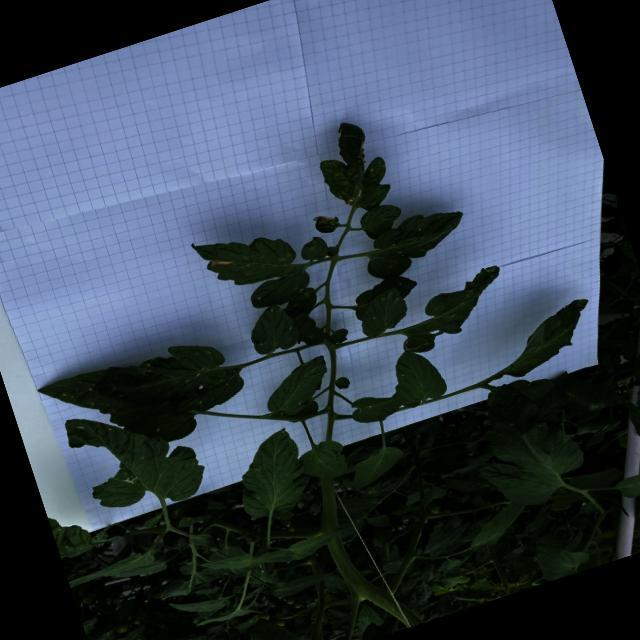Tomato healthy leaf: (455, 368, 595, 520), (490, 295, 606, 382), (223, 425, 316, 525), (258, 355, 338, 422), (384, 342, 451, 411), (460, 499, 534, 552), (66, 547, 156, 589), (344, 441, 412, 492), (294, 435, 353, 489), (534, 532, 594, 584), (328, 487, 386, 540), (166, 584, 232, 624), (286, 524, 351, 563), (270, 566, 338, 602), (356, 199, 408, 243), (417, 521, 476, 556), (243, 609, 306, 640), (200, 547, 256, 580), (112, 558, 170, 586), (613, 454, 640, 503), (443, 470, 481, 500), (177, 508, 214, 530), (366, 510, 392, 532), (189, 530, 216, 551)
Tomato target spot leaf: (386, 262, 520, 360), (555, 364, 624, 428), (610, 342, 640, 440), (118, 468, 146, 492)
